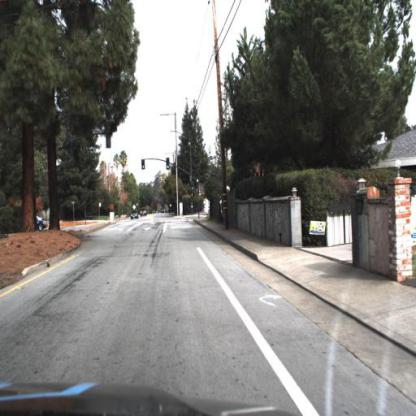car: (32, 211, 51, 234), (203, 202, 219, 219), (130, 208, 142, 222), (141, 206, 150, 220)
trafficLight-Green: (194, 174, 202, 190), (141, 159, 148, 177), (166, 157, 172, 173)
